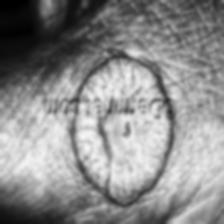Toxin: (78, 64, 170, 208), (119, 118, 135, 142)
